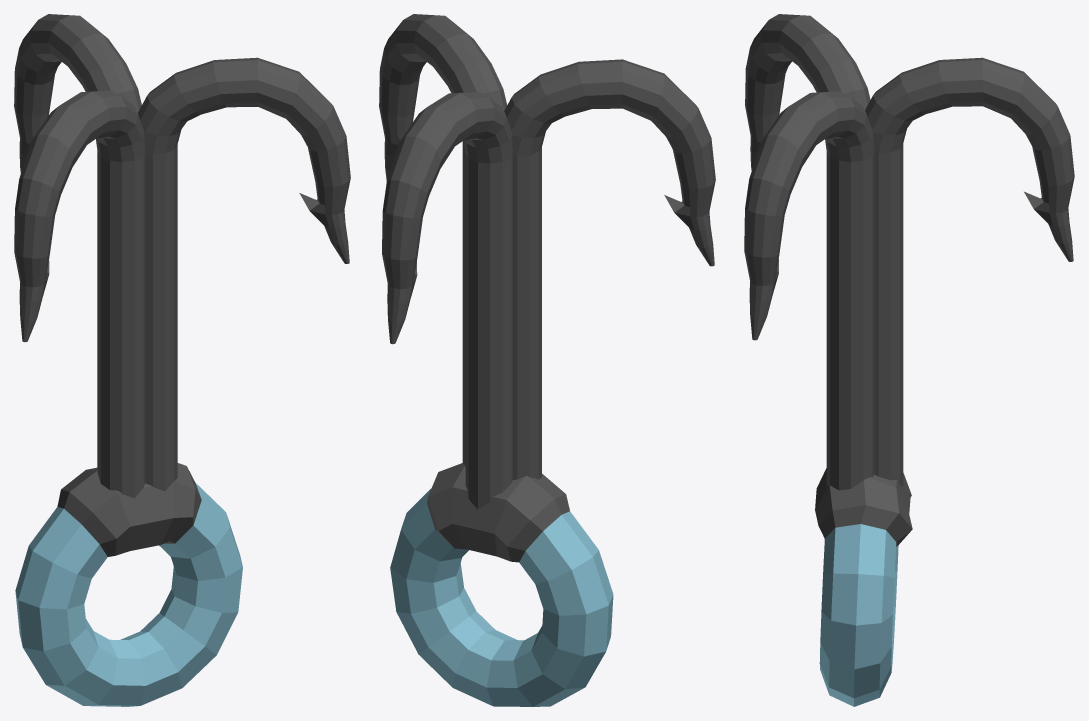
File: grapp-hook.fbx
3 renders of one model, left to right at view 1: azimuth 30°, elevation 25°; view 2: azimuth 150°, elevation 25°; view 3: azimuth 270°, elevation 25°, orthographic.
Visible parts, largest first — view 1: Torus, Cylinder.001, Cylinder.002, Cylinder; view 2: Torus, Cylinder, Cylinder.001, Cylinder.002; view 3: Cylinder.002, Cylinder, Torus, Cylinder.001.
Boxes of the visible parts, x1,y1,x2,y2 form: Torus: (15, 463, 242, 706); Cylinder.001: (14, 90, 145, 498); Cylinder.002: (137, 57, 350, 491); Cylinder: (14, 14, 141, 467); Torus: (390, 463, 613, 706); Cylinder: (382, 91, 512, 509); Cylinder.001: (504, 59, 715, 479); Cylinder.002: (379, 14, 507, 466); Cylinder.002: (744, 91, 874, 490); Cylinder: (865, 57, 1074, 486); Torus: (815, 468, 912, 706); Cylinder.001: (745, 14, 870, 170).
Bounding box in the file's own units: 24.88 × 46.13 × 21.71.
